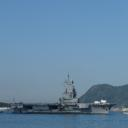Portanaves: (10, 71, 118, 117)
